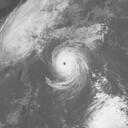cyclone: (46, 41, 89, 92)
